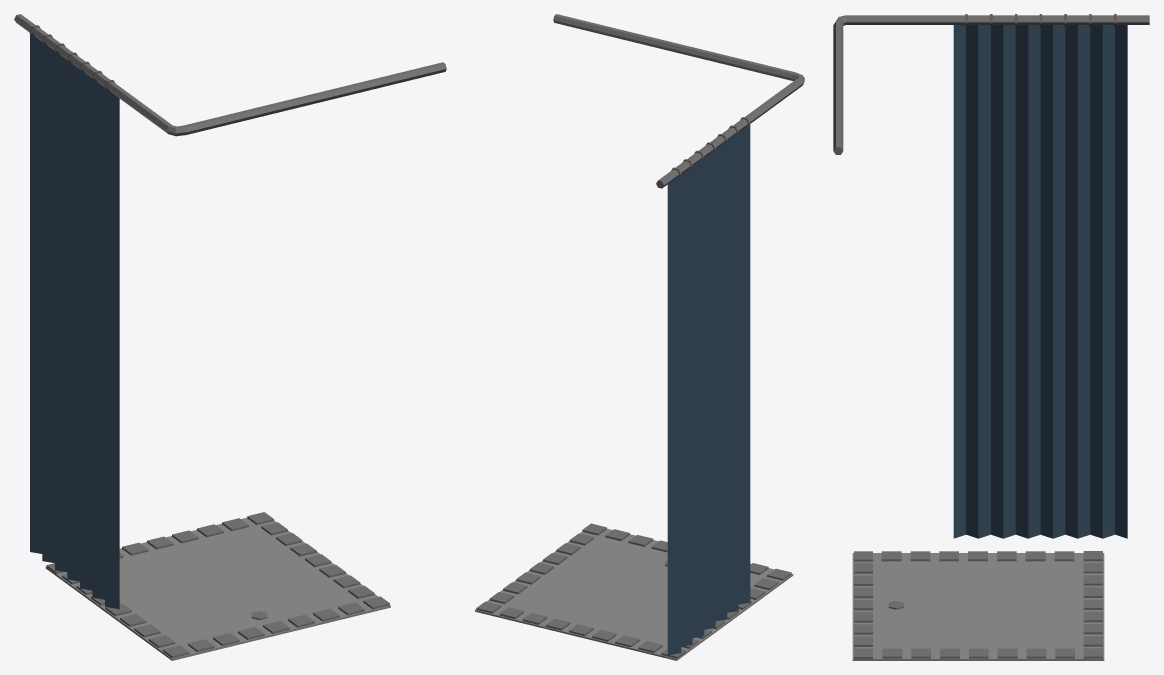
Rendered from bathroom_shower1.glb.
The picture shows the model from 3 angles, left to right: view 1: azimuth 30°, elevation 25°; view 2: azimuth 150°, elevation 25°; view 3: azimuth 270°, elevation 25°; orthographic projection. The views are drawn at different scales.
Parts seen in each view (by area): view 1: Bathroom_Shower1; view 2: Bathroom_Shower1; view 3: Bathroom_Shower1.
Boxes of the visible parts, x1=… form: Bathroom_Shower1: x1=14, y1=14, x2=446, y2=660; Bathroom_Shower1: x1=475, y1=14, x2=804, y2=660; Bathroom_Shower1: x1=833, y1=14, x2=1149, y2=660.
Size of the model in its own units: 1.9 by 3.55 by 1.89.
